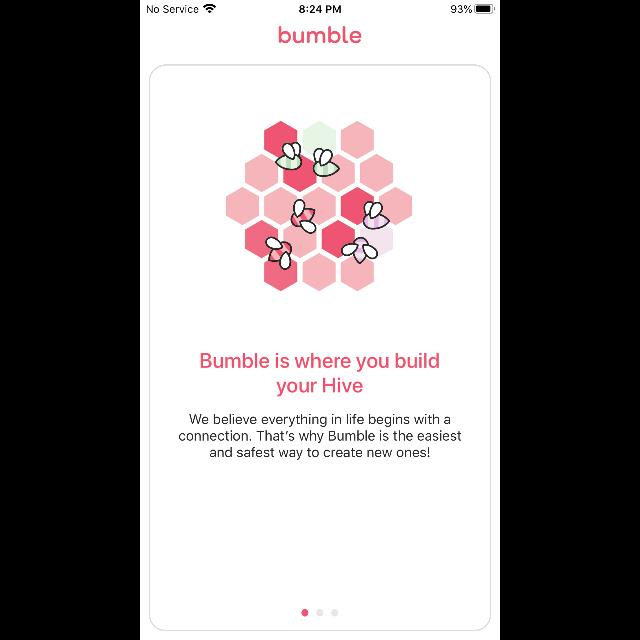image: (226, 121, 412, 291)
pageindicator: (302, 610, 338, 616)
text: (179, 414, 461, 460), (201, 353, 439, 397), (279, 26, 361, 44)
uppertaskbar: (140, 0, 500, 14)
